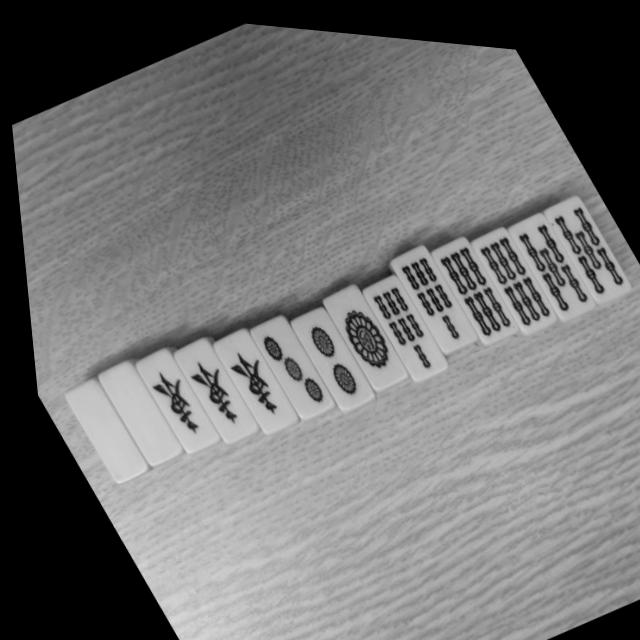hdw: (93, 363, 169, 460), (59, 383, 133, 477)
hwe: (129, 348, 206, 448), (168, 339, 246, 436), (208, 328, 285, 425)
sb5: (542, 185, 625, 290), (508, 205, 588, 306)
sb6: (467, 218, 550, 323), (429, 229, 510, 333)
sb7: (359, 270, 440, 372), (388, 241, 467, 342)
sd1: (318, 279, 398, 381)
sd2: (288, 304, 363, 399)
sd3: (245, 313, 323, 411)
